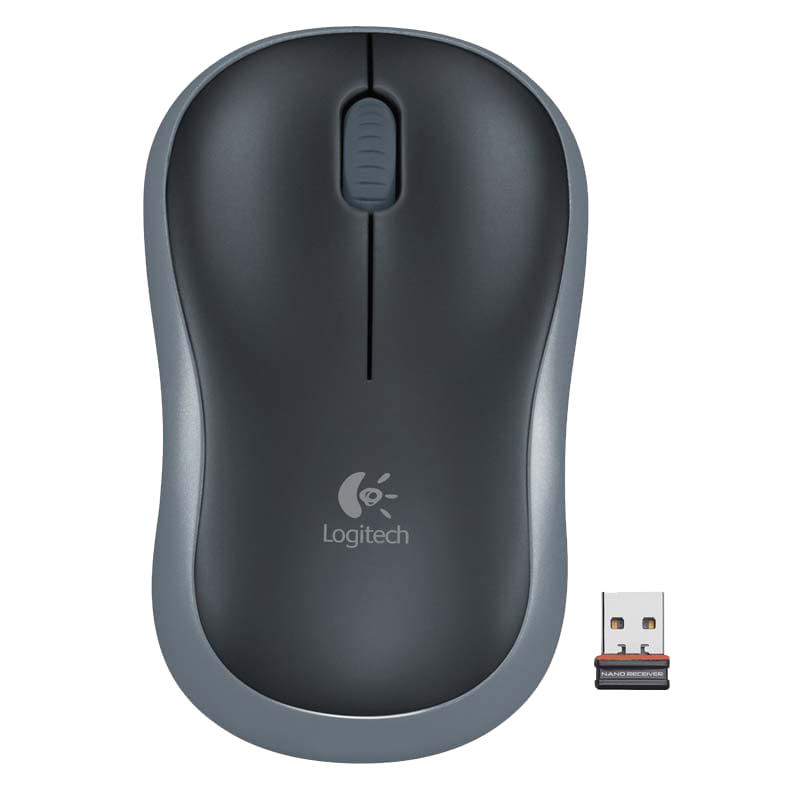logitech-mouse-m185: (120, 26, 589, 763)
